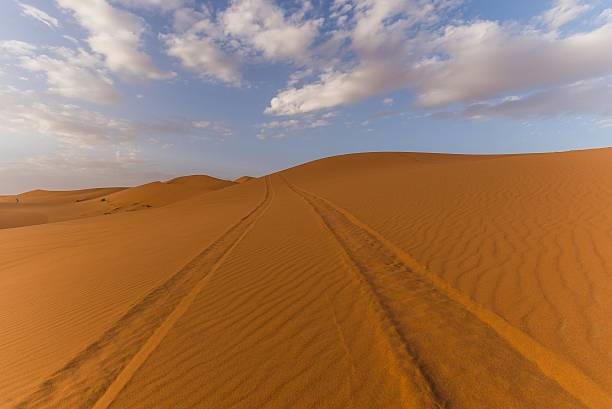vehicle_track: (285, 179, 611, 408), (16, 177, 272, 408)
